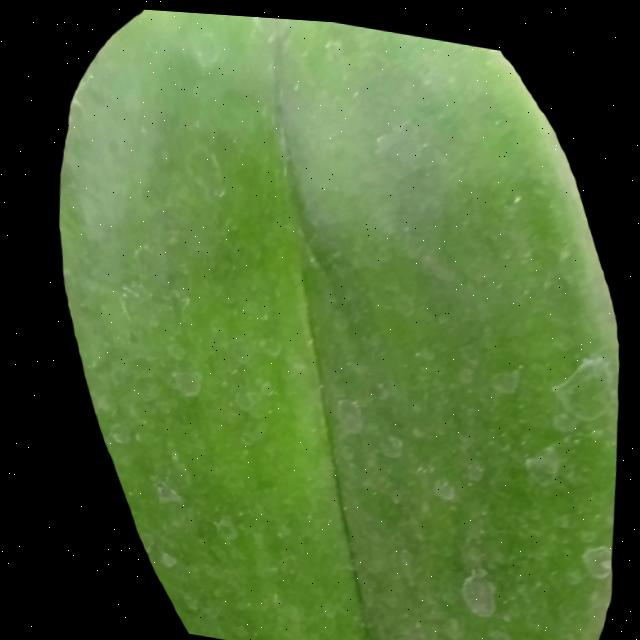mite: (450, 562, 492, 614), (328, 388, 361, 435), (164, 361, 199, 399), (205, 509, 234, 542), (371, 425, 400, 456), (425, 468, 452, 497), (227, 382, 254, 411), (455, 452, 481, 481), (478, 619, 509, 640)
spots: (33, 3, 634, 640)
